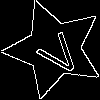V: (29, 24, 86, 81)
